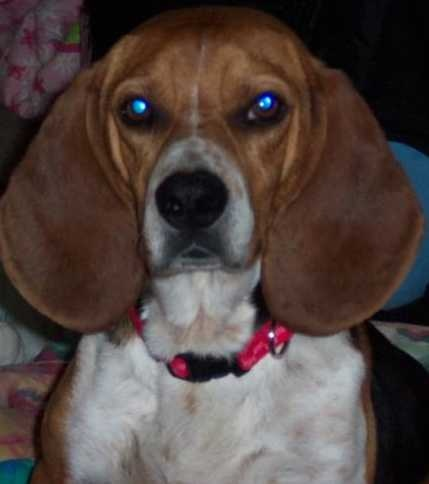dog: (1, 0, 377, 436)
